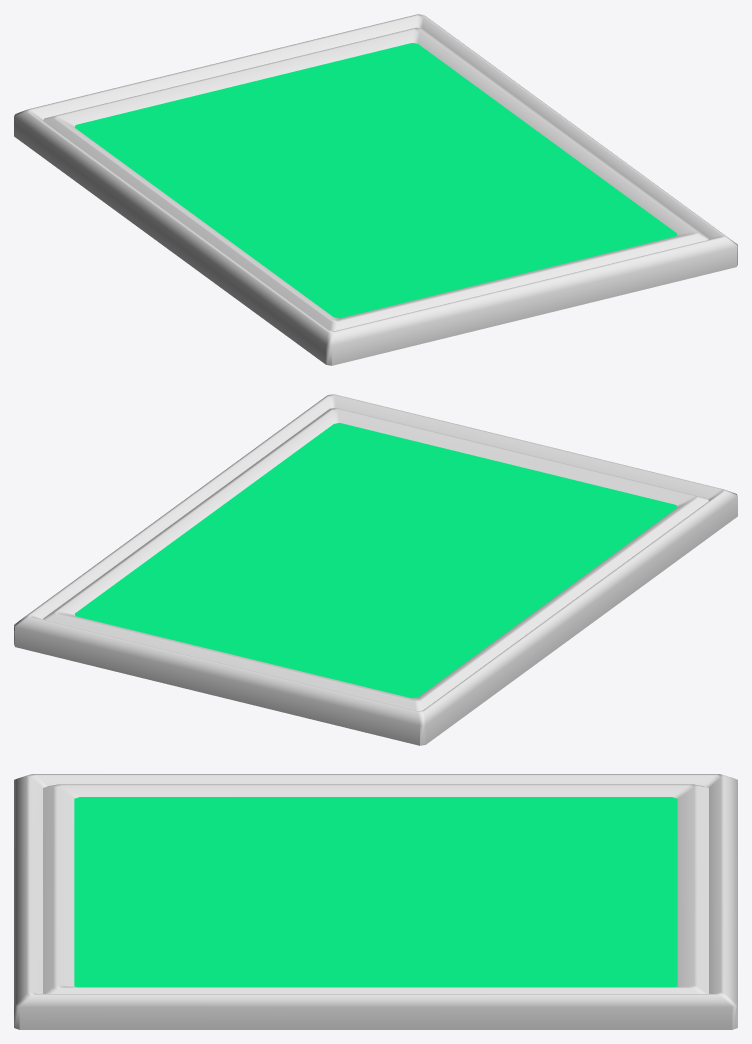
The model's file is PaintingD.fbx.
3 renders of one model, top to bottom at view 1: azimuth 30°, elevation 25°; view 2: azimuth 150°, elevation 25°; view 3: azimuth 270°, elevation 25°, orthographic. The views are drawn at different scales.
Visible parts, largest first — view 1: PaintingD; view 2: PaintingD; view 3: PaintingD.
Part boxes in pixels (box(x1,y1,x2,y2)): PaintingD: box(14, 14, 737, 365); PaintingD: box(14, 394, 737, 745); PaintingD: box(14, 774, 737, 1029).
Size of the model in its own units: 53.98 by 3.36 by 71.97.
